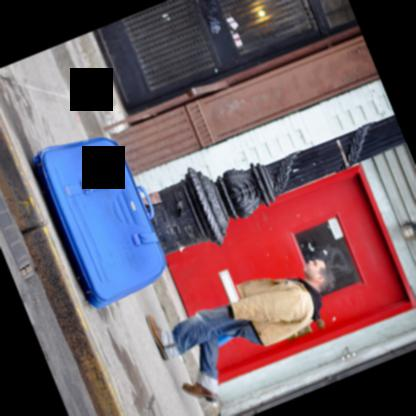suitcase: (32, 137, 165, 309)
